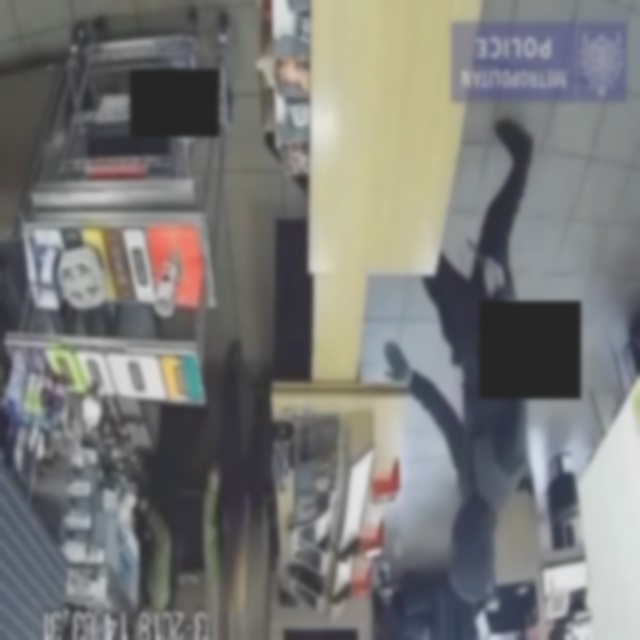gun: (459, 230, 497, 275)
